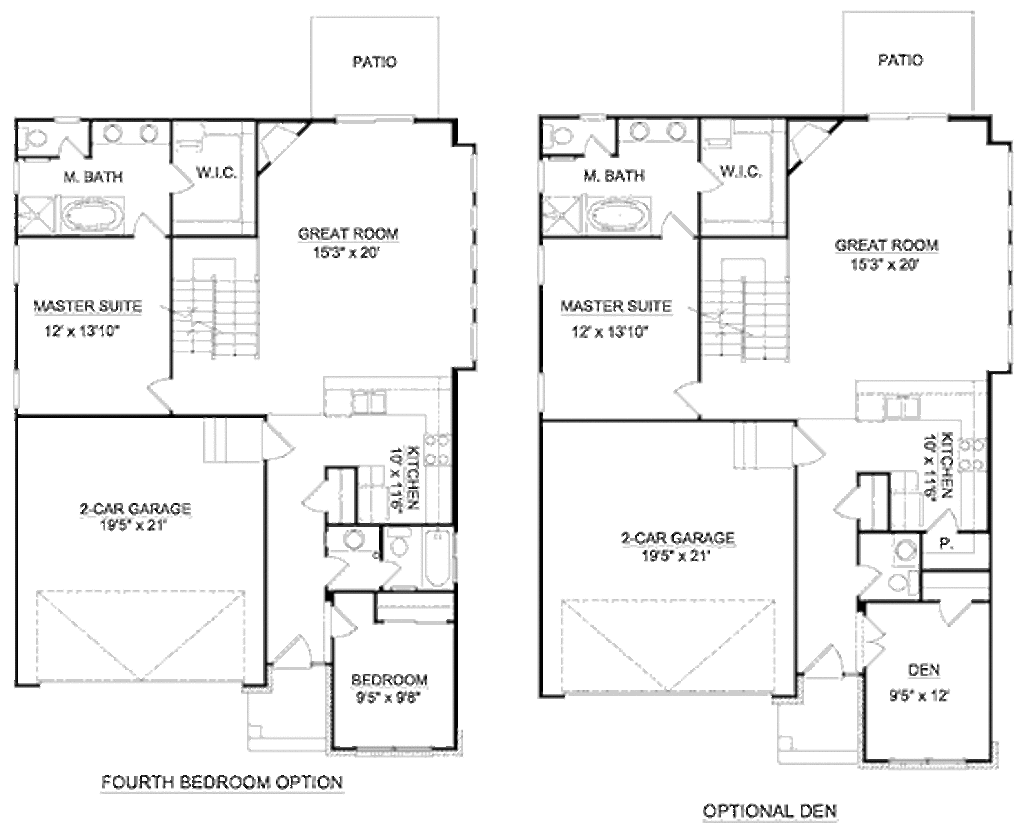door: (852, 610, 889, 673), (794, 635, 848, 678), (137, 372, 184, 413), (268, 634, 318, 672), (792, 423, 833, 469), (263, 418, 300, 460), (674, 371, 708, 416), (129, 209, 165, 249), (656, 207, 695, 242), (300, 478, 335, 515), (936, 596, 974, 630), (163, 158, 197, 194), (835, 479, 864, 519), (323, 605, 359, 637), (925, 507, 965, 535), (854, 564, 882, 598), (320, 553, 347, 587), (54, 132, 86, 160), (379, 561, 401, 589)
large_sink: (386, 523, 419, 563), (12, 119, 48, 153), (542, 118, 572, 155), (888, 571, 921, 599)
small_sink: (88, 119, 170, 147), (330, 524, 383, 557), (625, 117, 689, 141), (889, 537, 927, 564)
stairs: (171, 233, 272, 366), (700, 238, 800, 366)
tub: (425, 524, 456, 588)
twin_sink: (875, 386, 931, 429), (344, 384, 395, 418)
